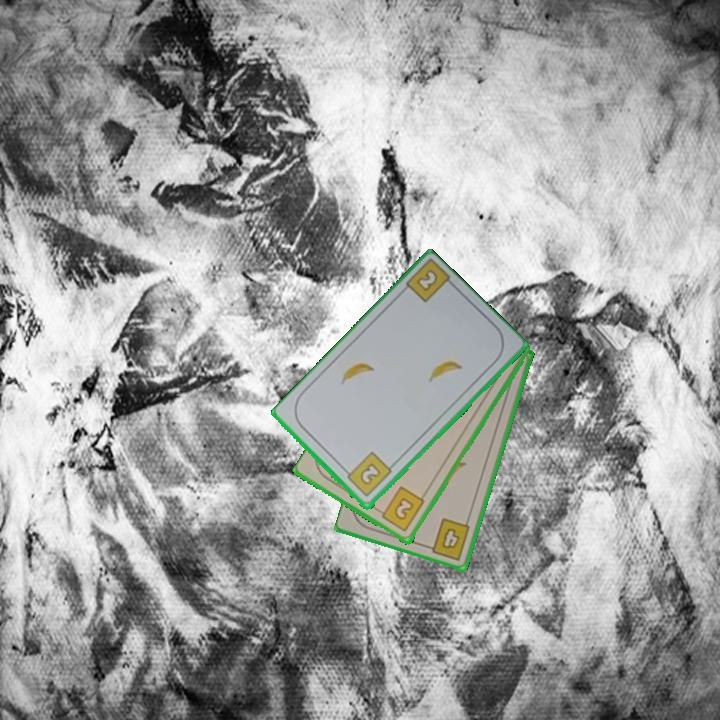2b: (374, 483, 428, 535), (340, 449, 395, 500), (413, 266, 441, 295)
4b: (422, 514, 473, 563)
